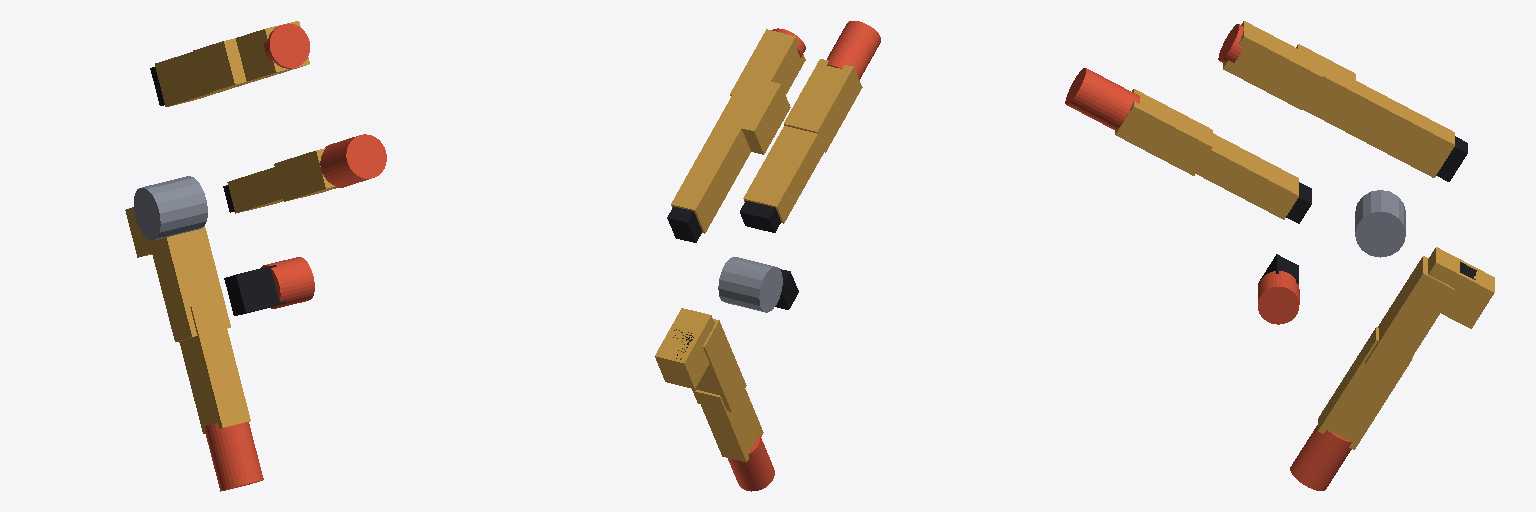
robot.urdf — g0023_c14:
<robot name="g0023_c14">
  <link name="palm">
    <visual name="palm_palm1">
      <origin xyz="0 0 0" rpy="0 0 0" />
      <geometry>
        <mesh filename="palm_palm1.obj" />
      </geometry>
      <material name="palm_palm1_mat">
        <color rgba="0.55 0.57 0.62 1" />
      </material>
    </visual>
    <collision>
      <origin xyz="0 0 0" rpy="0 0 0" />
      <geometry>
        <mesh filename="palm_palm1.obj" />
      </geometry>
    </collision>
    <visual name="palm_mount2">
      <origin xyz="0 0 0" rpy="0 0 0" />
      <geometry>
        <mesh filename="palm_mount2.obj" />
      </geometry>
      <material name="palm_mount2_mat">
        <color rgba="0.55 0.57 0.62 1" />
      </material>
    </visual>
    <collision>
      <origin xyz="0 0 0" rpy="0 0 0" />
      <geometry>
        <mesh filename="palm_mount2.obj" />
      </geometry>
    </collision>
    <visual name="palm_motor3">
      <origin xyz="-0.007 -0.08 -0.04" rpy="1.06057524e-16 -1.04719755 1.57079633" />
      <geometry>
        <box size="0.029 0.034 0.02" />
      </geometry>
      <material name="palm_motor3_mat">
        <color rgba="0.15 0.15 0.17 1" />
      </material>
    </visual>
    <collision>
      <origin xyz="-0.007 -0.08 -0.04" rpy="1.06057524e-16 -1.04719755 1.57079633" />
      <geometry>
        <box size="0.029 0.034 0.02" />
      </geometry>
    </collision>
    <visual name="palm_motor4">
      <origin xyz="-0.0045 -0.0735048095 0.03625" rpy="-0.523598776 -5.30287619e-17 3.061617e-17" />
      <geometry>
        <box size="0.029 0.034 0.02" />
      </geometry>
      <material name="palm_motor4_mat">
        <color rgba="0.15 0.15 0.17 1" />
      </material>
    </visual>
    <collision>
      <origin xyz="-0.0045 -0.0735048095 0.03625" rpy="-0.523598776 -5.30287619e-17 3.061617e-17" />
      <geometry>
        <box size="0.029 0.034 0.02" />
      </geometry>
    </collision>
    <visual name="palm_motor5">
      <origin xyz="-0.0045 0.0666996732 -0.0467548095" rpy="1.57079633 -0.523598776 -1.57079633" />
      <geometry>
        <box size="0.029 0.034 0.02" />
      </geometry>
      <material name="palm_motor5_mat">
        <color rgba="0.15 0.15 0.17 1" />
      </material>
    </visual>
    <collision>
      <origin xyz="-0.0045 0.0666996732 -0.0467548095" rpy="1.57079633 -0.523598776 -1.57079633" />
      <geometry>
        <box size="0.029 0.034 0.02" />
      </geometry>
    </collision>
    <visual name="palm_motor6">
      <origin xyz="0 0.0464951905 0.07625" rpy="-1.57079633 -1.04719755 1.57079633" />
      <geometry>
        <box size="0.029 0.034 0.02" />
      </geometry>
      <material name="palm_motor6_mat">
        <color rgba="0.15 0.15 0.17 1" />
      </material>
    </visual>
    <collision>
      <origin xyz="0 0.0464951905 0.07625" rpy="-1.57079633 -1.04719755 1.57079633" />
      <geometry>
        <box size="0.029 0.034 0.02" />
      </geometry>
    </collision>
    <inertial>
      <origin xyz="0 -0.0018037996 0.00636735465" rpy="-1.57079633 0.16769685 -1.57079633" />
      <mass value="1.07012693" />
      <inertia ixx="0.00194814015" ixy="0" ixz="0" iyy="0.00273407681" iyz="0" izz="0.00457948477" />
    </inertial>
  </link>
  <link name="f0_link0">
    <visual name="f0_link0_link1">
      <origin xyz="0.019 0 -6.9388939e-18" rpy="-1.57079633 -0 -1.57079633" />
      <geometry>
        <cylinder radius="0.0165" length="0.029" />
      </geometry>
      <material name="f0_link0_link1_mat">
        <color rgba="0.85 0.35 0.25 1" />
      </material>
    </visual>
    <collision>
      <origin xyz="0.019 0 -6.9388939e-18" rpy="-1.57079633 -0 -1.57079633" />
      <geometry>
        <cylinder radius="0.0165" length="0.029" />
      </geometry>
    </collision>
    <inertial>
      <origin xyz="0.019 0 0" rpy="0 0 0" />
      <mass value="0.0763354" />
      <inertia ixx="9.49466441e-06" ixy="0" ixz="0" iyy="2.24143997e-05" iyz="0" izz="2.24143997e-05" />
    </inertial>
  </link>
  <link name="f1_link0">
    <visual name="f1_link0_link1">
      <origin xyz="0.03875 0 -1.21430643e-17" rpy="0 7.03853194e-17 0" />
      <geometry>
        <box size="0.1015 0.033 0.024" />
      </geometry>
      <material name="f1_link0_link1_mat">
        <color rgba="0.80 0.62 0.30 1" />
      </material>
    </visual>
    <collision>
      <origin xyz="0.03875 0 -1.21430643e-17" rpy="0 7.03853194e-17 0" />
      <geometry>
        <box size="0.1015 0.033 0.024" />
      </geometry>
    </collision>
    <inertial>
      <origin xyz="0.03875 0 0" rpy="0 0 0" />
      <mass value="0.140679" />
      <inertia ixx="1.95192113e-05" ixy="0" ixz="0" iyy="0.000127528444" iyz="0" izz="0.000133542472" />
    </inertial>
  </link>
  <link name="f1_link1">
    <visual name="f1_link1_link1">
      <origin xyz="0.02375 0 -2.08166817e-17" rpy="0 7.03853194e-17 0" />
      <geometry>
        <box size="0.0715 0.033 0.029" />
      </geometry>
      <material name="f1_link1_link1_mat">
        <color rgba="0.80 0.62 0.30 1" />
      </material>
    </visual>
    <collision>
      <origin xyz="0.02375 0 -2.08166817e-17" rpy="0 7.03853194e-17 0" />
      <geometry>
        <box size="0.0715 0.033 0.029" />
      </geometry>
    </collision>
    <inertial>
      <origin xyz="0.02375 0 0" rpy="0 0 0" />
      <mass value="0.119744625" />
      <inertia ixx="1.92589272e-05" ixy="0" ixz="0" iyy="5.94058074e-05" iyz="0" izz="6.18805296e-05" />
    </inertial>
  </link>
  <link name="f1_link2">
    <visual name="f1_link2_link1">
      <origin xyz="0.029 0 -7.80625564e-18" rpy="-1.57079633 -0 -1.57079633" />
      <geometry>
        <cylinder radius="0.0165" length="0.049" />
      </geometry>
      <material name="f1_link2_link1_mat">
        <color rgba="0.85 0.35 0.25 1" />
      </material>
    </visual>
    <collision>
      <origin xyz="0.029 0 -7.80625564e-18" rpy="-1.57079633 -0 -1.57079633" />
      <geometry>
        <cylinder radius="0.0165" length="0.049" />
      </geometry>
    </collision>
    <inertial>
      <origin xyz="0.029 0 0" rpy="0 0 0" />
      <mass value="0.106270851" />
      <inertia ixx="1.35696277e-05" ixy="0" ixz="0" iyy="5.30015704e-05" iyz="0" izz="5.30015704e-05" />
    </inertial>
  </link>
  <link name="f2_link0">
    <visual name="f2_link0_link1">
      <origin xyz="-0.00625 0 -0.0165" rpy="0 4.06369831e-17 0" />
      <geometry>
        <box size="0.0365 0.029 0.053" />
      </geometry>
      <material name="f2_link0_link1_mat">
        <color rgba="0.80 0.62 0.30 1" />
      </material>
    </visual>
    <collision>
      <origin xyz="-0.00625 0 -0.0165" rpy="0 4.06369831e-17 0" />
      <geometry>
        <box size="0.0365 0.029 0.053" />
      </geometry>
    </collision>
    <inertial>
      <origin xyz="-0.00625 0 -0.0165" rpy="0 0 0" />
      <mass value="0.098175875" />
      <inertia ixx="2.98618286e-05" ixy="0" ixz="0" iyy="3.38809035e-05" iyz="0" izz="1.778006e-05" />
    </inertial>
  </link>
  <link name="f2_link1">
    <visual name="f2_link1_link1">
      <origin xyz="0.03375 0 6.9388939e-18" rpy="0 4.06369831e-17 0" />
      <geometry>
        <box size="0.0915 0.033 0.029" />
      </geometry>
      <material name="f2_link1_link1_mat">
        <color rgba="0.80 0.62 0.30 1" />
      </material>
    </visual>
    <collision>
      <origin xyz="0.03375 0 6.9388939e-18" rpy="0 4.06369831e-17 0" />
      <geometry>
        <box size="0.0915 0.033 0.029" />
      </geometry>
    </collision>
    <inertial>
      <origin xyz="0.03375 0 0" rpy="0 0 0" />
      <mass value="0.153239625" />
      <inertia ixx="2.46460397e-05" ixy="0" ixz="0" iyy="0.000117652915" iyz="0" izz="0.000120819867" />
    </inertial>
  </link>
  <link name="f2_link2">
    <visual name="f2_link2_link1">
      <origin xyz="0.03375 0 -1.38777878e-17" rpy="0 4.06369831e-17 0" />
      <geometry>
        <box size="0.0915 0.024 0.033" />
      </geometry>
      <material name="f2_link2_link1_mat">
        <color rgba="0.80 0.62 0.30 1" />
      </material>
    </visual>
    <collision>
      <origin xyz="0.03375 0 -1.38777878e-17" rpy="0 4.06369831e-17 0" />
      <geometry>
        <box size="0.0915 0.024 0.033" />
      </geometry>
    </collision>
    <inertial>
      <origin xyz="0.03375 0 0" rpy="0 0 0" />
      <mass value="0.126819" />
      <inertia ixx="1.75961363e-05" ixy="0" ixz="0" iyy="9.99888553e-05" iyz="0" izz="9.45673431e-05" />
    </inertial>
  </link>
  <link name="f2_link3">
    <visual name="f2_link3_link1">
      <origin xyz="0.029 0 1.04083409e-17" rpy="-1.57079633 -0 -1.57079633" />
      <geometry>
        <cylinder radius="0.0165" length="0.049" />
      </geometry>
      <material name="f2_link3_link1_mat">
        <color rgba="0.85 0.35 0.25 1" />
      </material>
    </visual>
    <collision>
      <origin xyz="0.029 0 1.04083409e-17" rpy="-1.57079633 -0 -1.57079633" />
      <geometry>
        <cylinder radius="0.0165" length="0.049" />
      </geometry>
    </collision>
    <inertial>
      <origin xyz="0.029 0 0" rpy="0 0 0" />
      <mass value="0.106270851" />
      <inertia ixx="1.35696277e-05" ixy="0" ixz="0" iyy="5.30015704e-05" iyz="0" izz="5.30015704e-05" />
    </inertial>
  </link>
  <link name="f3_link0">
    <visual name="f3_link0_link1">
      <origin xyz="0.04375 0 0" rpy="0 7.03853194e-17 0" />
      <geometry>
        <box size="0.1115 0.024 0.033" />
      </geometry>
      <material name="f3_link0_link1_mat">
        <color rgba="0.80 0.62 0.30 1" />
      </material>
    </visual>
    <collision>
      <origin xyz="0.04375 0 0" rpy="0 7.03853194e-17 0" />
      <geometry>
        <box size="0.1115 0.024 0.033" />
      </geometry>
    </collision>
    <inertial>
      <origin xyz="0.04375 0 0" rpy="0 0 0" />
      <mass value="0.154539" />
      <inertia ixx="2.14422863e-05" ixy="0" ixz="0" iyy="0.000174130038" iyz="0" izz="0.000167523496" />
    </inertial>
  </link>
  <link name="f3_link1">
    <visual name="f3_link1_link1">
      <origin xyz="0.014 -0.00625 -1.38777878e-17" rpy="0 7.03853194e-17 0" />
      <geometry>
        <box size="0.052 0.0365 0.033" />
      </geometry>
      <material name="f3_link1_link1_mat">
        <color rgba="0.80 0.62 0.30 1" />
      </material>
    </visual>
    <collision>
      <origin xyz="0.014 -0.00625 -1.38777878e-17" rpy="0 7.03853194e-17 0" />
      <geometry>
        <box size="0.052 0.0365 0.033" />
      </geometry>
    </collision>
    <inertial>
      <origin xyz="0.014 -0.00625 0" rpy="0 0 0" />
      <mass value="0.1096095" />
      <inertia ixx="2.21160002e-05" ixy="0" ixz="0" iyy="3.46457361e-05" iyz="0" izz="3.6867612e-05" />
    </inertial>
  </link>
  <link name="f3_link2">
    <visual name="f3_link2_link1">
      <origin xyz="0.02375 0 0" rpy="0 7.03853194e-17 0" />
      <geometry>
        <box size="0.0715 0.029 0.033" />
      </geometry>
      <material name="f3_link2_link1_mat">
        <color rgba="0.80 0.62 0.30 1" />
      </material>
    </visual>
    <collision>
      <origin xyz="0.02375 0 0" rpy="0 7.03853194e-17 0" />
      <geometry>
        <box size="0.0715 0.029 0.033" />
      </geometry>
    </collision>
    <inertial>
      <origin xyz="0.02375 0 0" rpy="0 0 0" />
      <mass value="0.119744625" />
      <inertia ixx="1.92589272e-05" ixy="0" ixz="0" iyy="6.18805296e-05" iyz="0" izz="5.94058074e-05" />
    </inertial>
  </link>
  <link name="f3_link3">
    <visual name="f3_link3_link1">
      <origin xyz="0.009 0 -1.38777878e-17" rpy="-1.57079633 -0 -1.57079633" />
      <geometry>
        <cylinder radius="0.0165" length="0.009" />
      </geometry>
      <material name="f3_link3_link1_mat">
        <color rgba="0.85 0.35 0.25 1" />
      </material>
    </visual>
    <collision>
      <origin xyz="0.009 0 -1.38777878e-17" rpy="-1.57079633 -0 -1.57079633" />
      <geometry>
        <cylinder radius="0.0165" length="0.009" />
      </geometry>
    </collision>
    <inertial>
      <origin xyz="0.009 0 0" rpy="0 0 0" />
      <mass value="0.046399949" />
      <inertia ixx="5.41970115e-06" ixy="0" ixz="0" iyy="7.09430898e-06" iyz="0" izz="7.09430898e-06" />
    </inertial>
  </link>
  <joint name="f0_j0" type="revolute">
    <parent link="palm" />
    <child link="f0_link0" />
    <origin xyz="0.0005 -0.08 -0.04" rpy="1.04719755 5.30287619e-17 -3.061617e-17" />
    <axis xyz="0 1 6.123234e-17" />
    <limit effort="0.5" lower="-0.523598776" upper="0.523598776" velocity="5" />
    <dynamics damping="0.0775033" friction="0" />
  </joint>
  <joint name="f1_j0" type="revolute">
    <parent link="palm" />
    <child link="f1_link0" />
    <origin xyz="-0.0045 -0.08 0.04" rpy="-0 -0.523598776 -1.57079633" />
    <axis xyz="-0 -1 -6.123234e-17" />
    <limit effort="0.5" lower="-0.523598776" upper="0.523598776" velocity="5" />
    <dynamics damping="0.0775033" friction="0" />
  </joint>
  <joint name="f1_j1" type="revolute">
    <parent link="f1_link0" />
    <child link="f1_link1" />
    <origin xyz="0.08 0 0" rpy="0 0 0" />
    <axis xyz="-0 -1 -6.123234e-17" />
    <limit effort="0.5" lower="-0.523598776" upper="0.523598776" velocity="5" />
    <dynamics damping="0.0775033" friction="0" />
  </joint>
  <joint name="f1_j2" type="revolute">
    <parent link="f1_link1" />
    <child link="f1_link2" />
    <origin xyz="0.05 0 0" rpy="0 0 0" />
    <axis xyz="0 0 1" />
    <limit effort="0.5" lower="-0.523598776" upper="1.57079633" velocity="5" />
    <dynamics damping="0.0775033" friction="0" />
  </joint>
  <joint name="f2_j0" type="revolute">
    <parent link="palm" />
    <child link="f2_link0" />
    <origin xyz="-0.0045 0.04 -0.04" rpy="0 1.04719755 -1.57079633" />
    <axis xyz="0 0 1" />
    <limit effort="0.5" lower="-0.523598776" upper="1.57079633" velocity="5" />
    <dynamics damping="0.0775033" friction="0" />
  </joint>
  <joint name="f2_j1" type="revolute">
    <parent link="f2_link0" />
    <child link="f2_link1" />
    <origin xyz="0 0 0" rpy="0 0 0" />
    <axis xyz="0 1 6.123234e-17" />
    <limit effort="0.5" lower="-0.523598776" upper="0.523598776" velocity="5" />
    <dynamics damping="0.0775033" friction="0" />
  </joint>
  <joint name="f2_j2" type="revolute">
    <parent link="f2_link1" />
    <child link="f2_link2" />
    <origin xyz="0.07 0 0" rpy="0 0 0" />
    <axis xyz="0 0 1" />
    <limit effort="0.5" lower="-0.523598776" upper="1.57079633" velocity="5" />
    <dynamics damping="0.0775033" friction="0" />
  </joint>
  <joint name="f2_j3" type="revolute">
    <parent link="f2_link2" />
    <child link="f2_link3" />
    <origin xyz="0.07 0 0" rpy="0 0 0" />
    <axis xyz="0 0 1" />
    <limit effort="0.5" lower="-0.523598776" upper="1.57079633" velocity="5" />
    <dynamics damping="0.0775033" friction="0" />
  </joint>
  <joint name="f3_j0" type="revolute">
    <parent link="palm" />
    <child link="f3_link0" />
    <origin xyz="0 0.04 0.08" rpy="-0 -0.523598776 -1.57079633" />
    <axis xyz="0 0 1" />
    <limit effort="0.5" lower="-0.523598776" upper="1.57079633" velocity="5" />
    <dynamics damping="0.0775033" friction="0" />
  </joint>
  <joint name="f3_j1" type="revolute">
    <parent link="f3_link0" />
    <child link="f3_link1" />
    <origin xyz="0.09 0 0" rpy="0 0 0" />
    <axis xyz="0 0 1" />
    <limit effort="0.5" lower="-0.523598776" upper="1.57079633" velocity="5" />
    <dynamics damping="0.0775033" friction="0" />
  </joint>
  <joint name="f3_j2" type="revolute">
    <parent link="f3_link1" />
    <child link="f3_link2" />
    <origin xyz="0.03 0 0" rpy="0 0 0" />
    <axis xyz="0 0 1" />
    <limit effort="0.5" lower="-0.523598776" upper="1.57079633" velocity="5" />
    <dynamics damping="0.0775033" friction="0" />
  </joint>
  <joint name="f3_j3" type="revolute">
    <parent link="f3_link2" />
    <child link="f3_link3" />
    <origin xyz="0.05 0 0" rpy="0 0 0" />
    <axis xyz="-0 -1 -6.123234e-17" />
    <limit effort="0.5" lower="-0.523598776" upper="0.523598776" velocity="5" />
    <dynamics damping="0.0775033" friction="0" />
  </joint>
</robot>

--- Render facts (derived) ---
The picture shows the robot from 3 angles, left to right: view 1: azimuth 30°, elevation 25°; view 2: azimuth 150°, elevation 25°; view 3: azimuth 270°, elevation 25°; orthographic projection.
Model g0023_c14 with 13 links and 12 joints (12 revolute), rooted at palm, posed all joints at 0.
Links seen in each view (by area): view 1: palm, f2_link2, f2_link1, f2_link3, f1_link2, f3_link1, f3_link0, f1_link1, f1_link0, f0_link0, f3_link3, f3_link2 (+1 smaller); view 2: palm, f3_link0, f1_link0, f1_link1, f2_link0, f2_link2, f3_link1, f3_link2, f2_link1, f1_link2, f2_link3; view 3: f3_link0, f1_link0, f2_link1, palm, f3_link2, f2_link2, f1_link1, f2_link0, f1_link2, f2_link3, f0_link0, f3_link1 (+1 smaller).
Boxes of the visible links, x1,y1,x2,y2 form: palm: (134, 67, 285, 315); f2_link2: (179, 300, 250, 433); f2_link1: (149, 226, 230, 341); f2_link3: (204, 422, 263, 491); f1_link2: (320, 134, 386, 187); f3_link1: (193, 38, 260, 93); f3_link0: (155, 52, 257, 106); f1_link1: (274, 148, 335, 201); f1_link0: (227, 164, 287, 213); f0_link0: (261, 257, 314, 308); f3_link3: (264, 23, 309, 68); f3_link2: (236, 21, 309, 84); palm: (667, 201, 798, 359); f3_link0: (671, 103, 751, 233); f1_link0: (743, 126, 824, 223); f1_link1: (784, 59, 862, 152); f2_link0: (655, 308, 714, 388); f2_link2: (695, 389, 763, 462); f3_link1: (728, 75, 790, 154); f3_link2: (730, 29, 805, 100); f2_link1: (692, 319, 746, 411); f1_link2: (827, 21, 880, 79); f2_link3: (728, 434, 774, 491); f3_link0: (1312, 68, 1454, 177); f1_link0: (1172, 133, 1298, 219); f2_link1: (1365, 256, 1454, 380); palm: (1258, 136, 1476, 283); f3_link2: (1223, 21, 1322, 109); f2_link2: (1318, 327, 1412, 449); f1_link1: (1115, 89, 1212, 175); f2_link0: (1428, 247, 1494, 328); f1_link2: (1065, 68, 1139, 129); f2_link3: (1290, 425, 1351, 490); f0_link0: (1258, 271, 1299, 324); f3_link1: (1296, 44, 1355, 125).
Bounding box of the posed robot: 0.086 × 0.3367 × 0.4019 m (x, y, z).
1 mesh visuals loaded from 2 distinct referenced files (1 OBJ); not drawn: 1 (reference not matched to a file when rendering).
